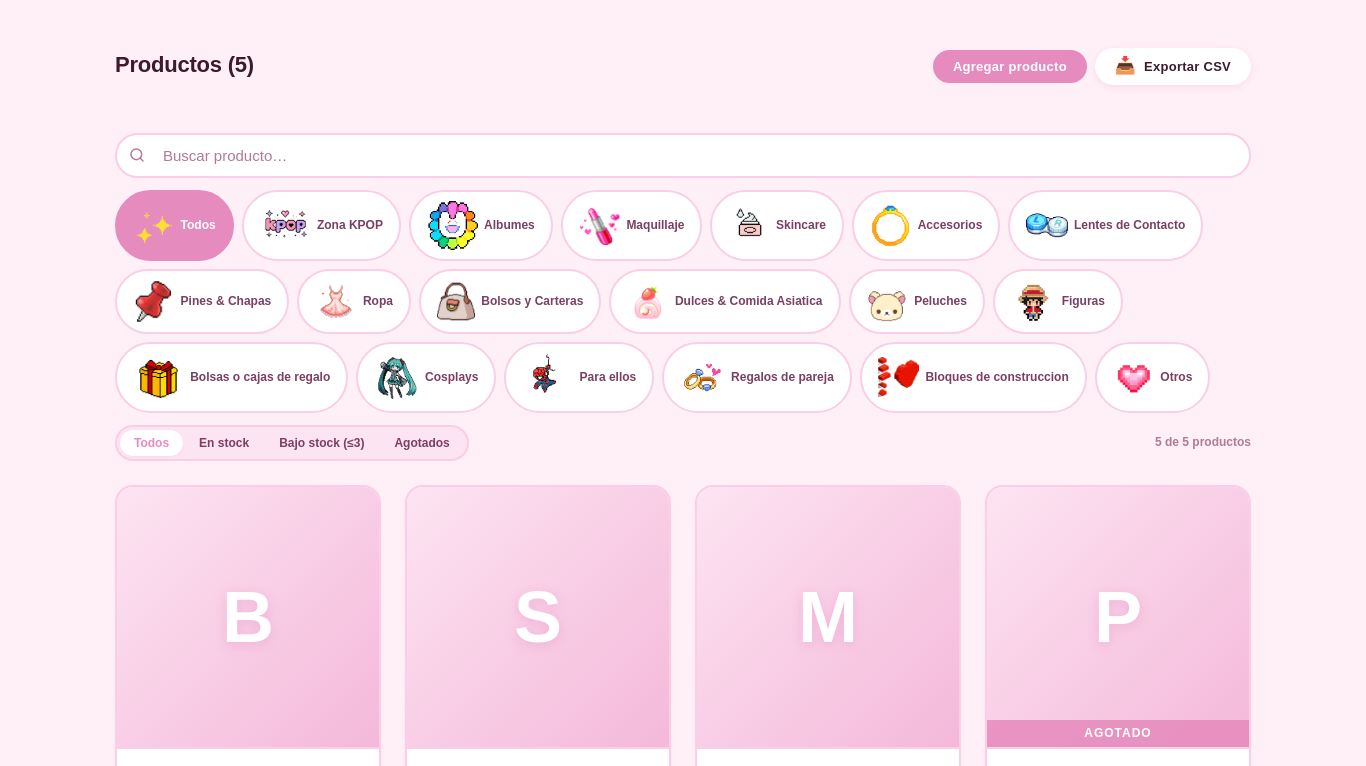
Test: ProductManagementPage — Low Stock Quick-Filter y Query Params › deshabilita el botón de exportar CSV cuando no hay productos coincidentes
Expected: the button with aria-label "exportar productos a csv" is enabled, x1=1095 y1=48 x2=1251 y2=85
In the search field labelled "Buscar producto": [683, 155] box x1=115 y1=133 x2=1251 y2=178, type "no_existe_nada_con_este_nombre"
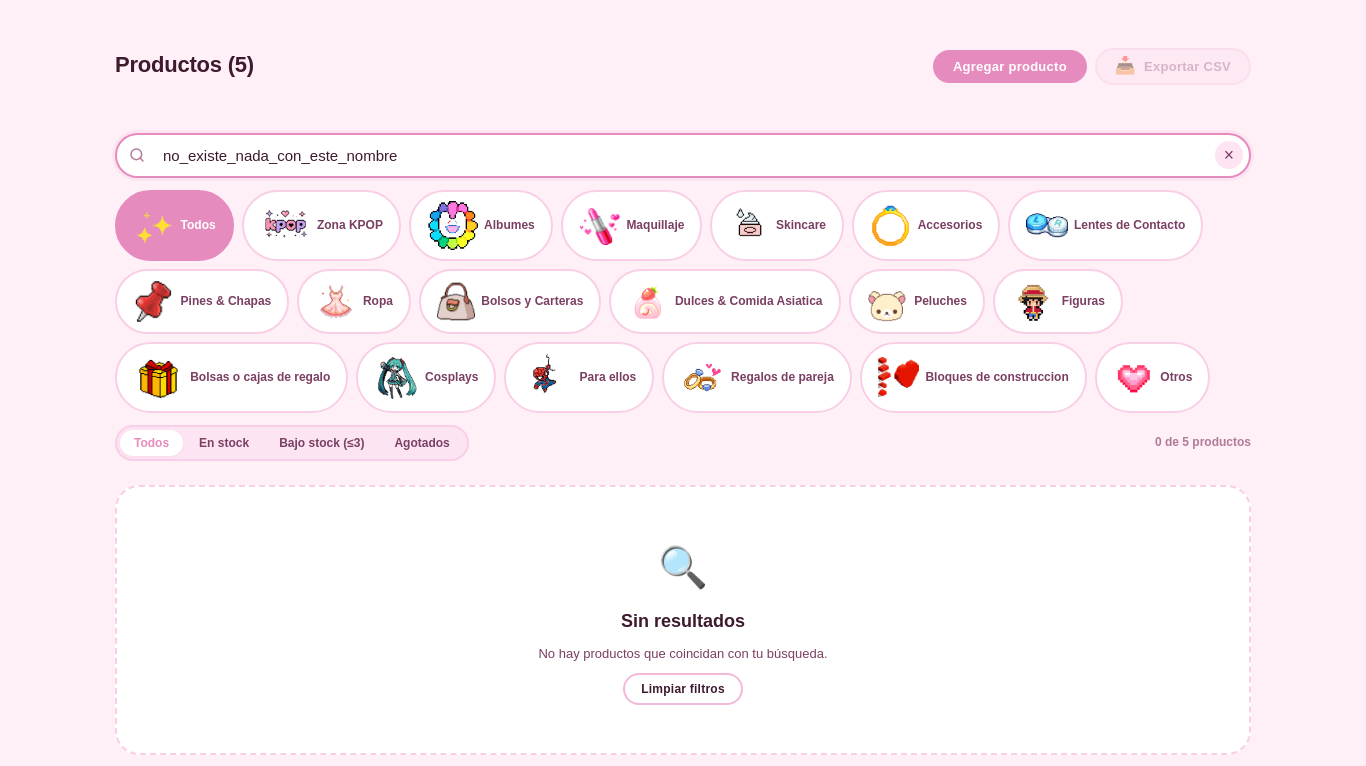
Expected: the button with aria-label "exportar productos a csv" is disabled, x1=1095 y1=48 x2=1251 y2=85
